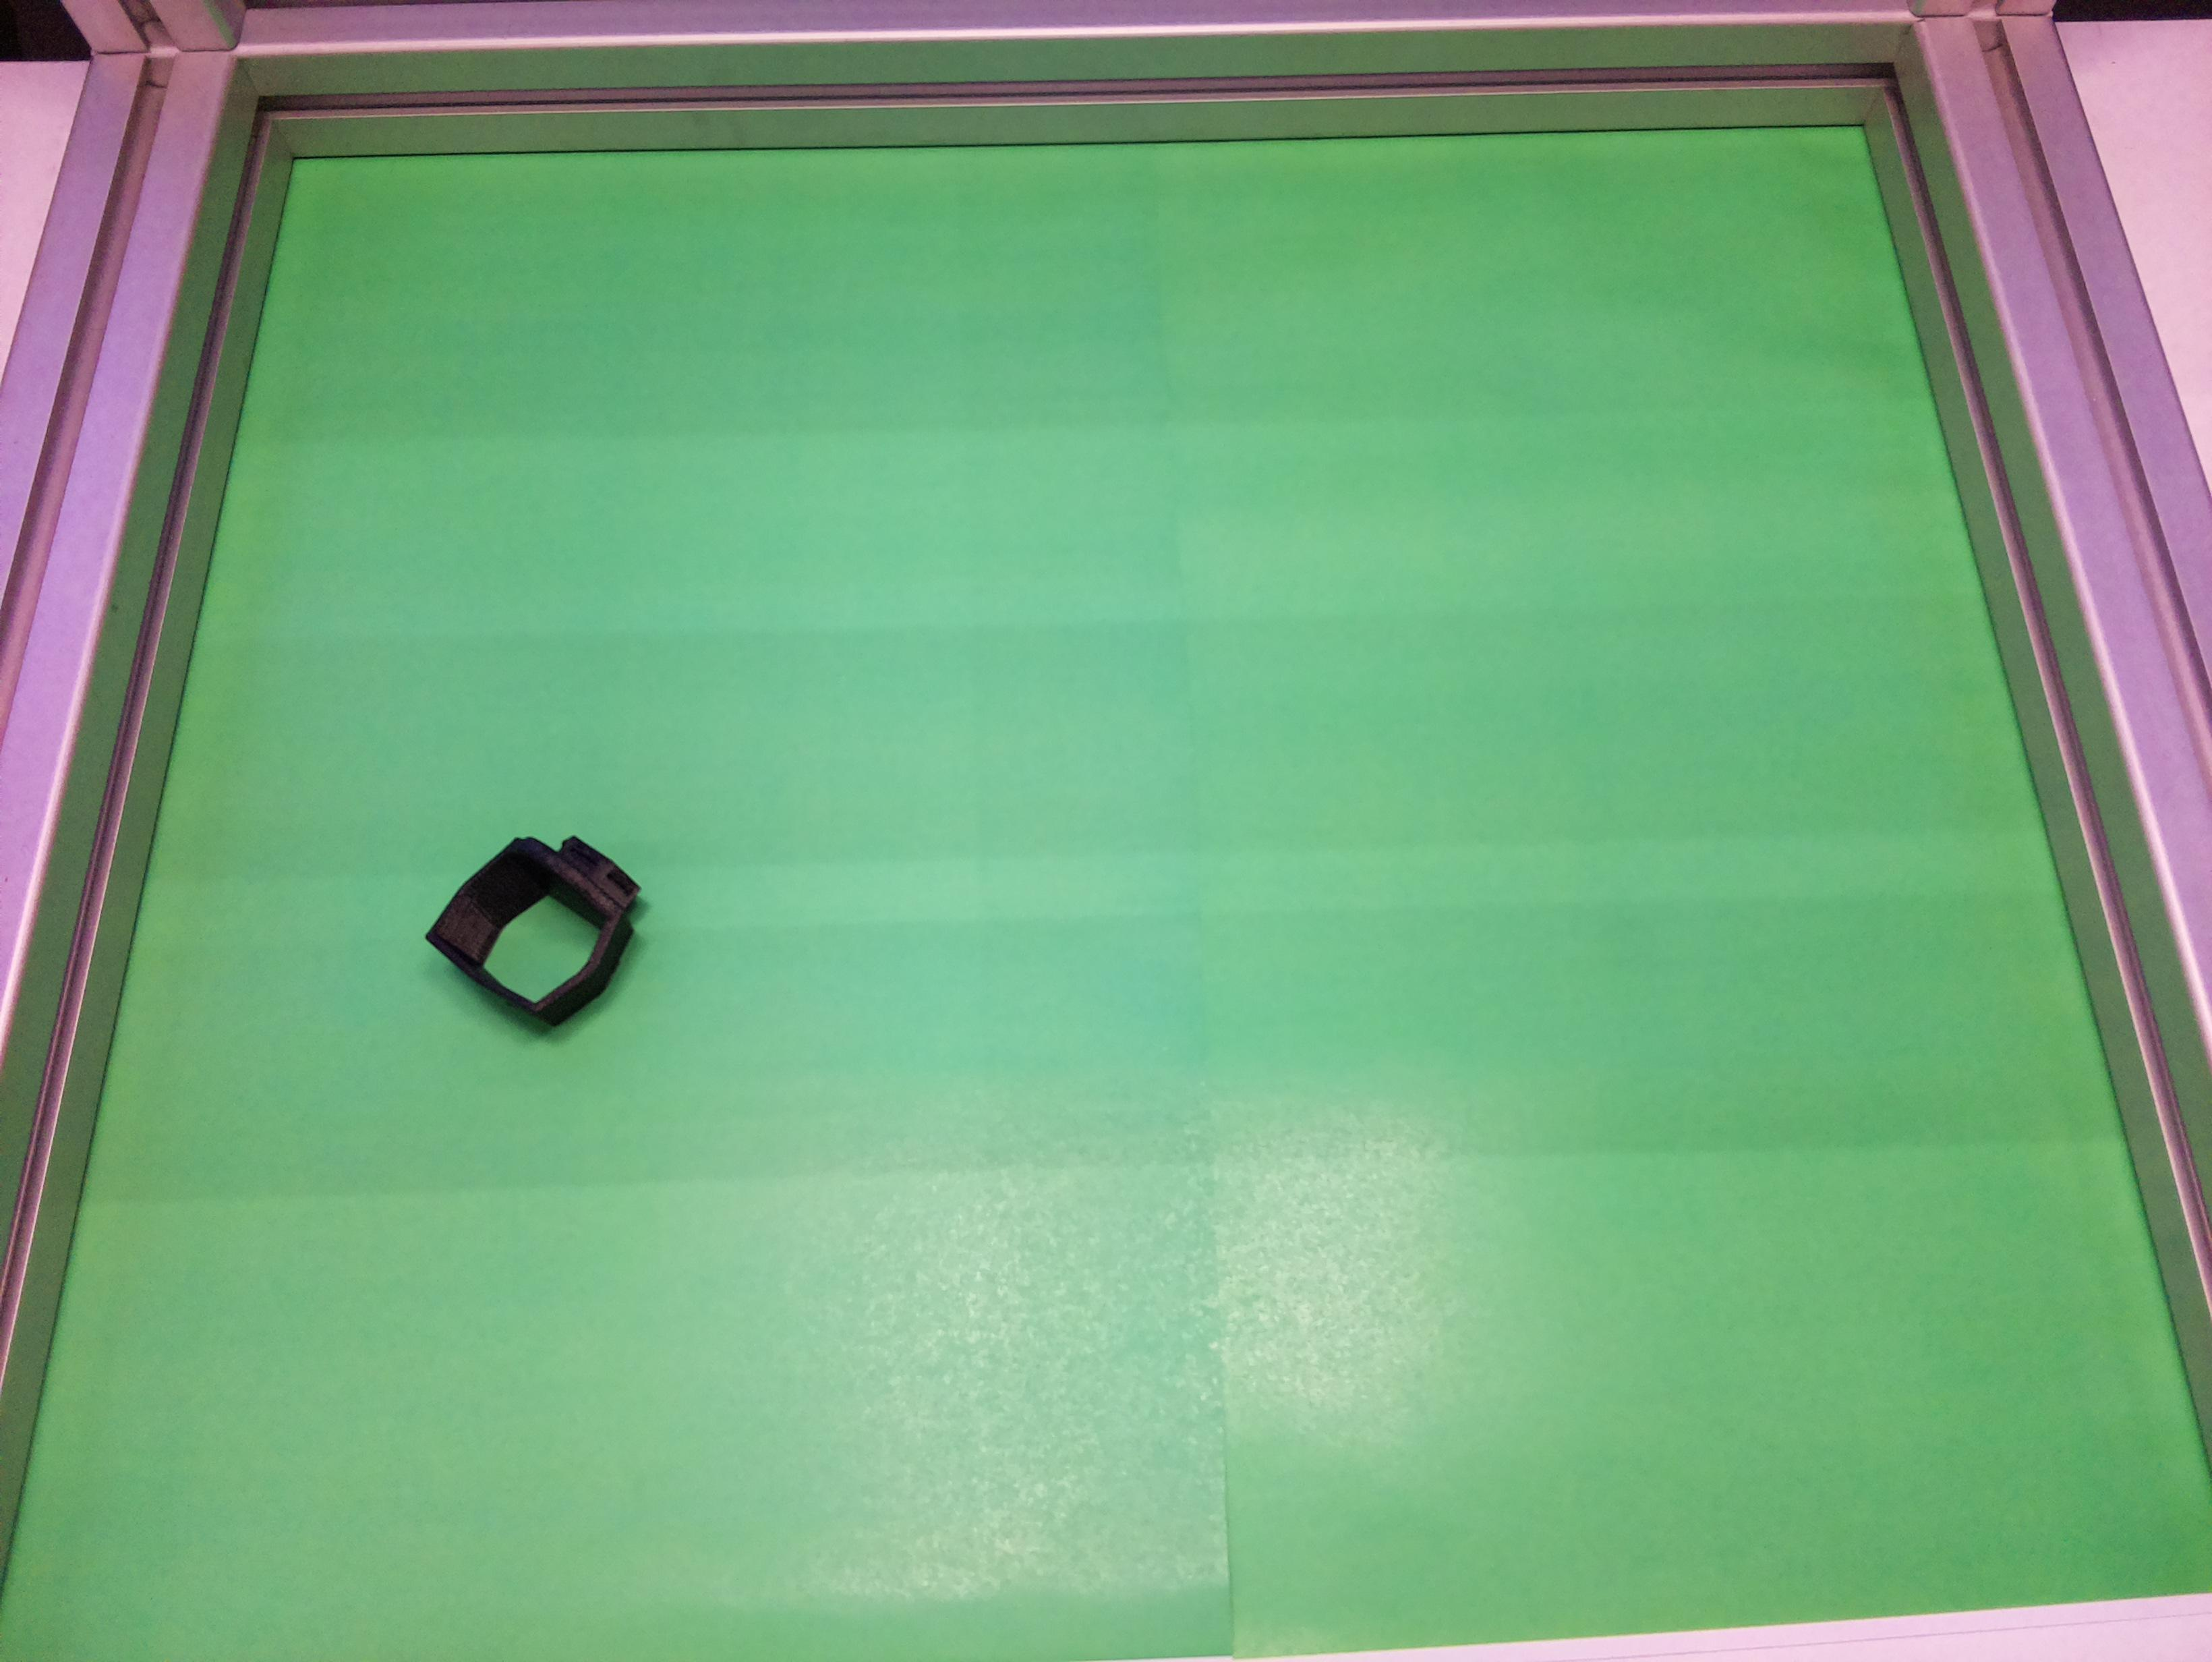scissor_holder: (419, 798, 670, 1049)
